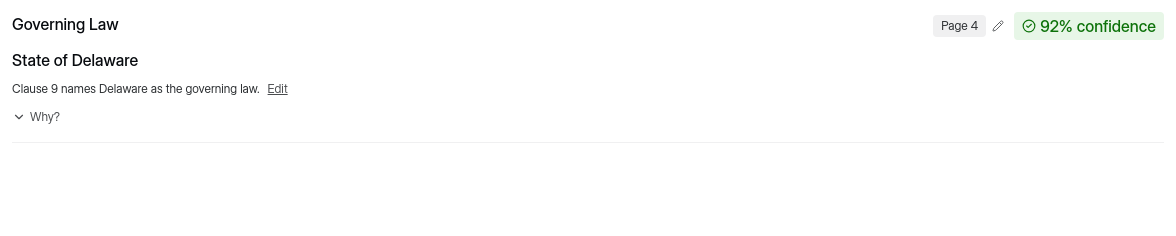
Test: WhySection (spec 07 v1.1 §C) › renders a Source block with the sentence and its page
Click the button "Why?" at coordinates (36, 117), box [12, 108, 60, 126]
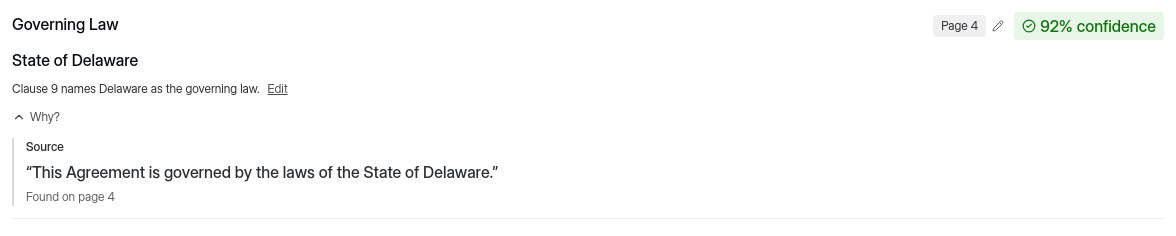
Now the text "governed by the laws of the State of Delaware" is shown, box [32, 162, 492, 182]
Now the text "Found on page 4" is shown, box [26, 189, 115, 204]
